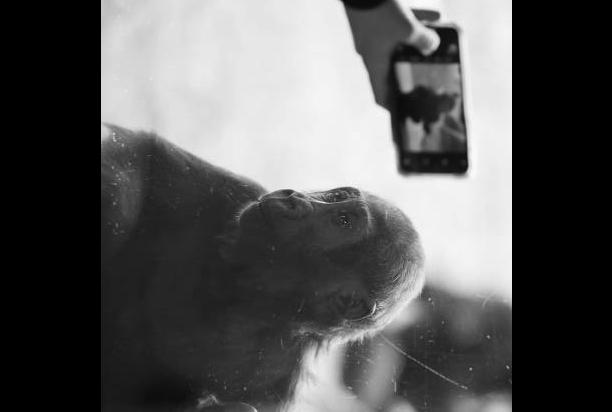gorille_Autres: (103, 166, 414, 412)
